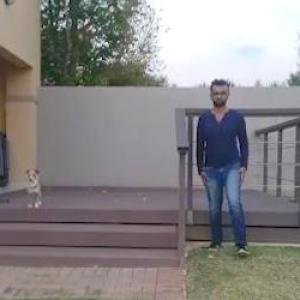follow: (198, 76, 253, 252)
